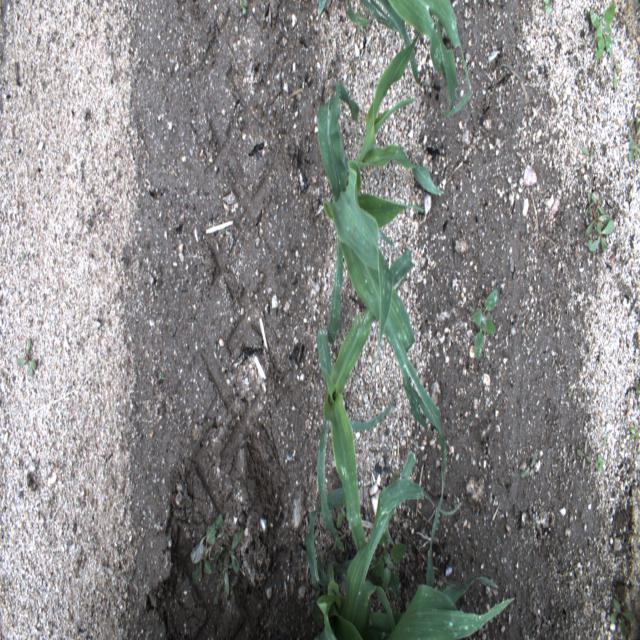crop: (317, 34, 447, 476), (306, 453, 460, 639), (390, 468, 514, 638), (316, 311, 397, 551), (346, 0, 474, 120), (315, 0, 327, 20)
weed: (188, 512, 226, 588), (372, 521, 407, 603), (212, 528, 242, 610), (471, 288, 498, 364), (589, 2, 616, 62), (609, 596, 635, 637), (589, 217, 615, 252), (16, 340, 38, 378), (574, 434, 592, 470), (584, 216, 612, 238), (520, 451, 538, 481), (625, 131, 639, 164), (613, 60, 624, 93), (581, 141, 598, 162), (336, 496, 345, 530), (584, 192, 594, 220), (627, 423, 639, 446), (628, 116, 639, 141), (592, 194, 604, 215), (594, 454, 604, 474), (238, 1, 249, 16), (541, 0, 552, 15), (633, 376, 639, 398)
